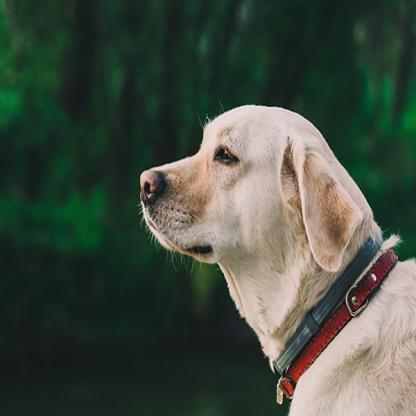Labarador Retriever: (138, 104, 416, 416)
